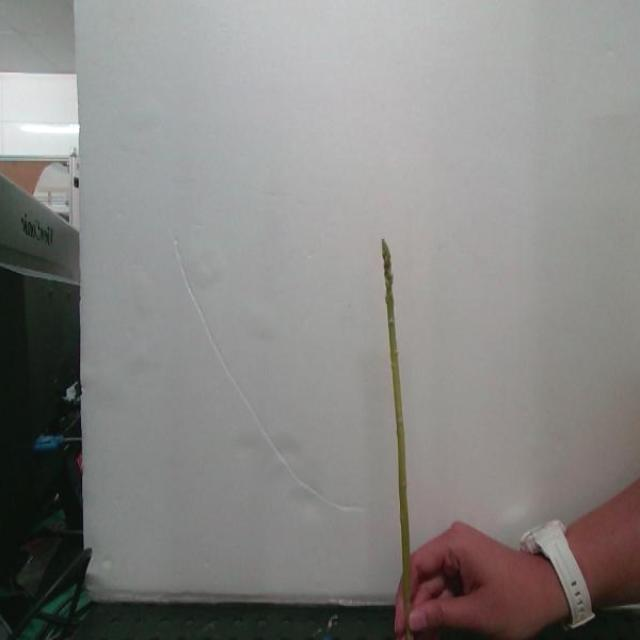aspargus: (382, 242, 412, 610)
